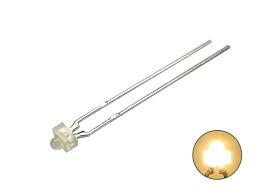LED: (46, 33, 239, 154)
